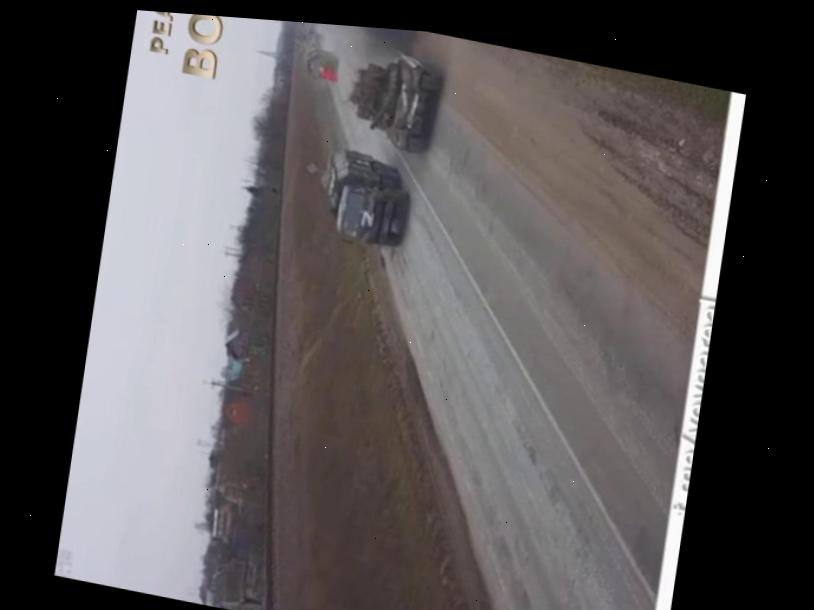tank: (346, 41, 445, 157)
truck: (314, 144, 414, 251), (300, 40, 341, 83)
